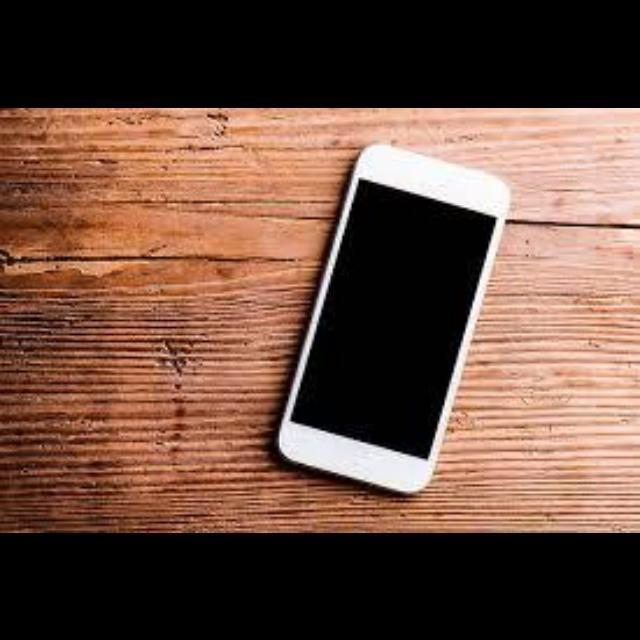Phone: (277, 143, 509, 494)
